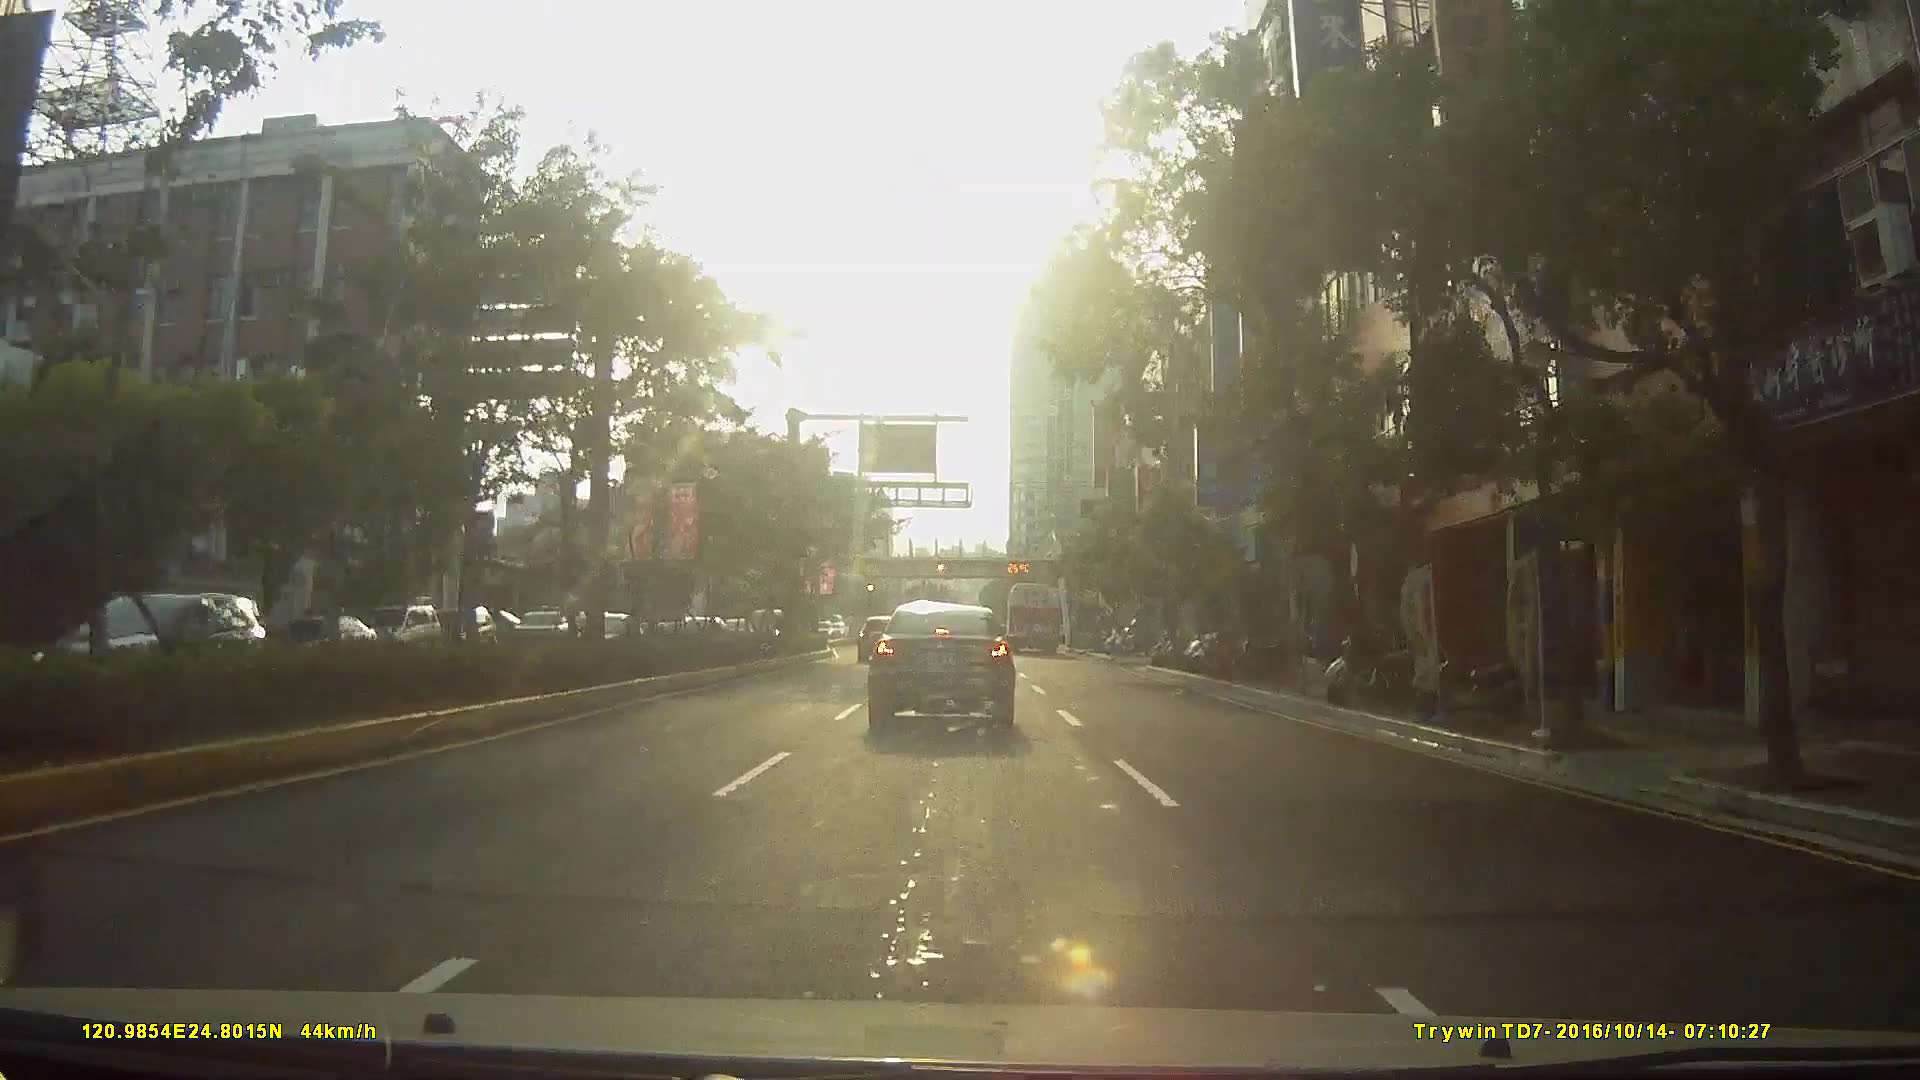vehicle: (13, 592, 252, 713), (862, 601, 1015, 732), (150, 597, 258, 669), (1004, 579, 1064, 653), (361, 603, 439, 654), (423, 605, 491, 655), (506, 611, 568, 647), (856, 615, 899, 663)
